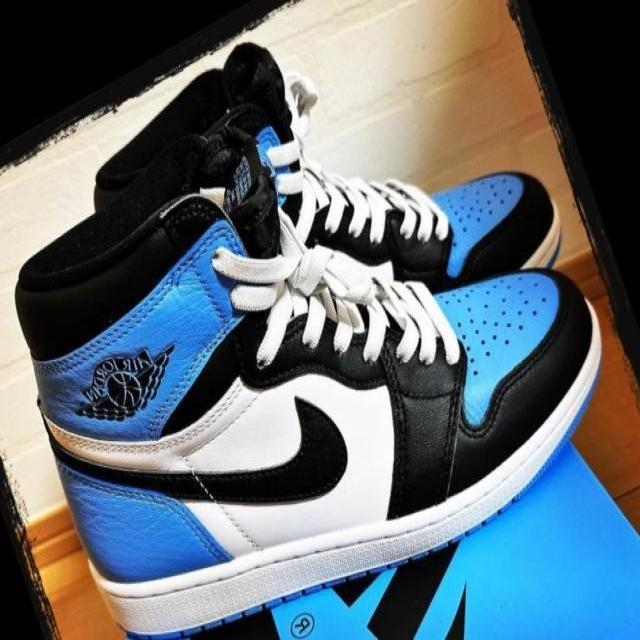J1_InsoleChar: (12, 41, 605, 637)
J1_ShoeLogo: (74, 340, 176, 422), (288, 611, 315, 638)
J1_ShoeShape: (92, 40, 561, 286)
J1_StitchPattern: (209, 206, 463, 372), (303, 166, 450, 246), (371, 274, 462, 367), (154, 189, 229, 237)
